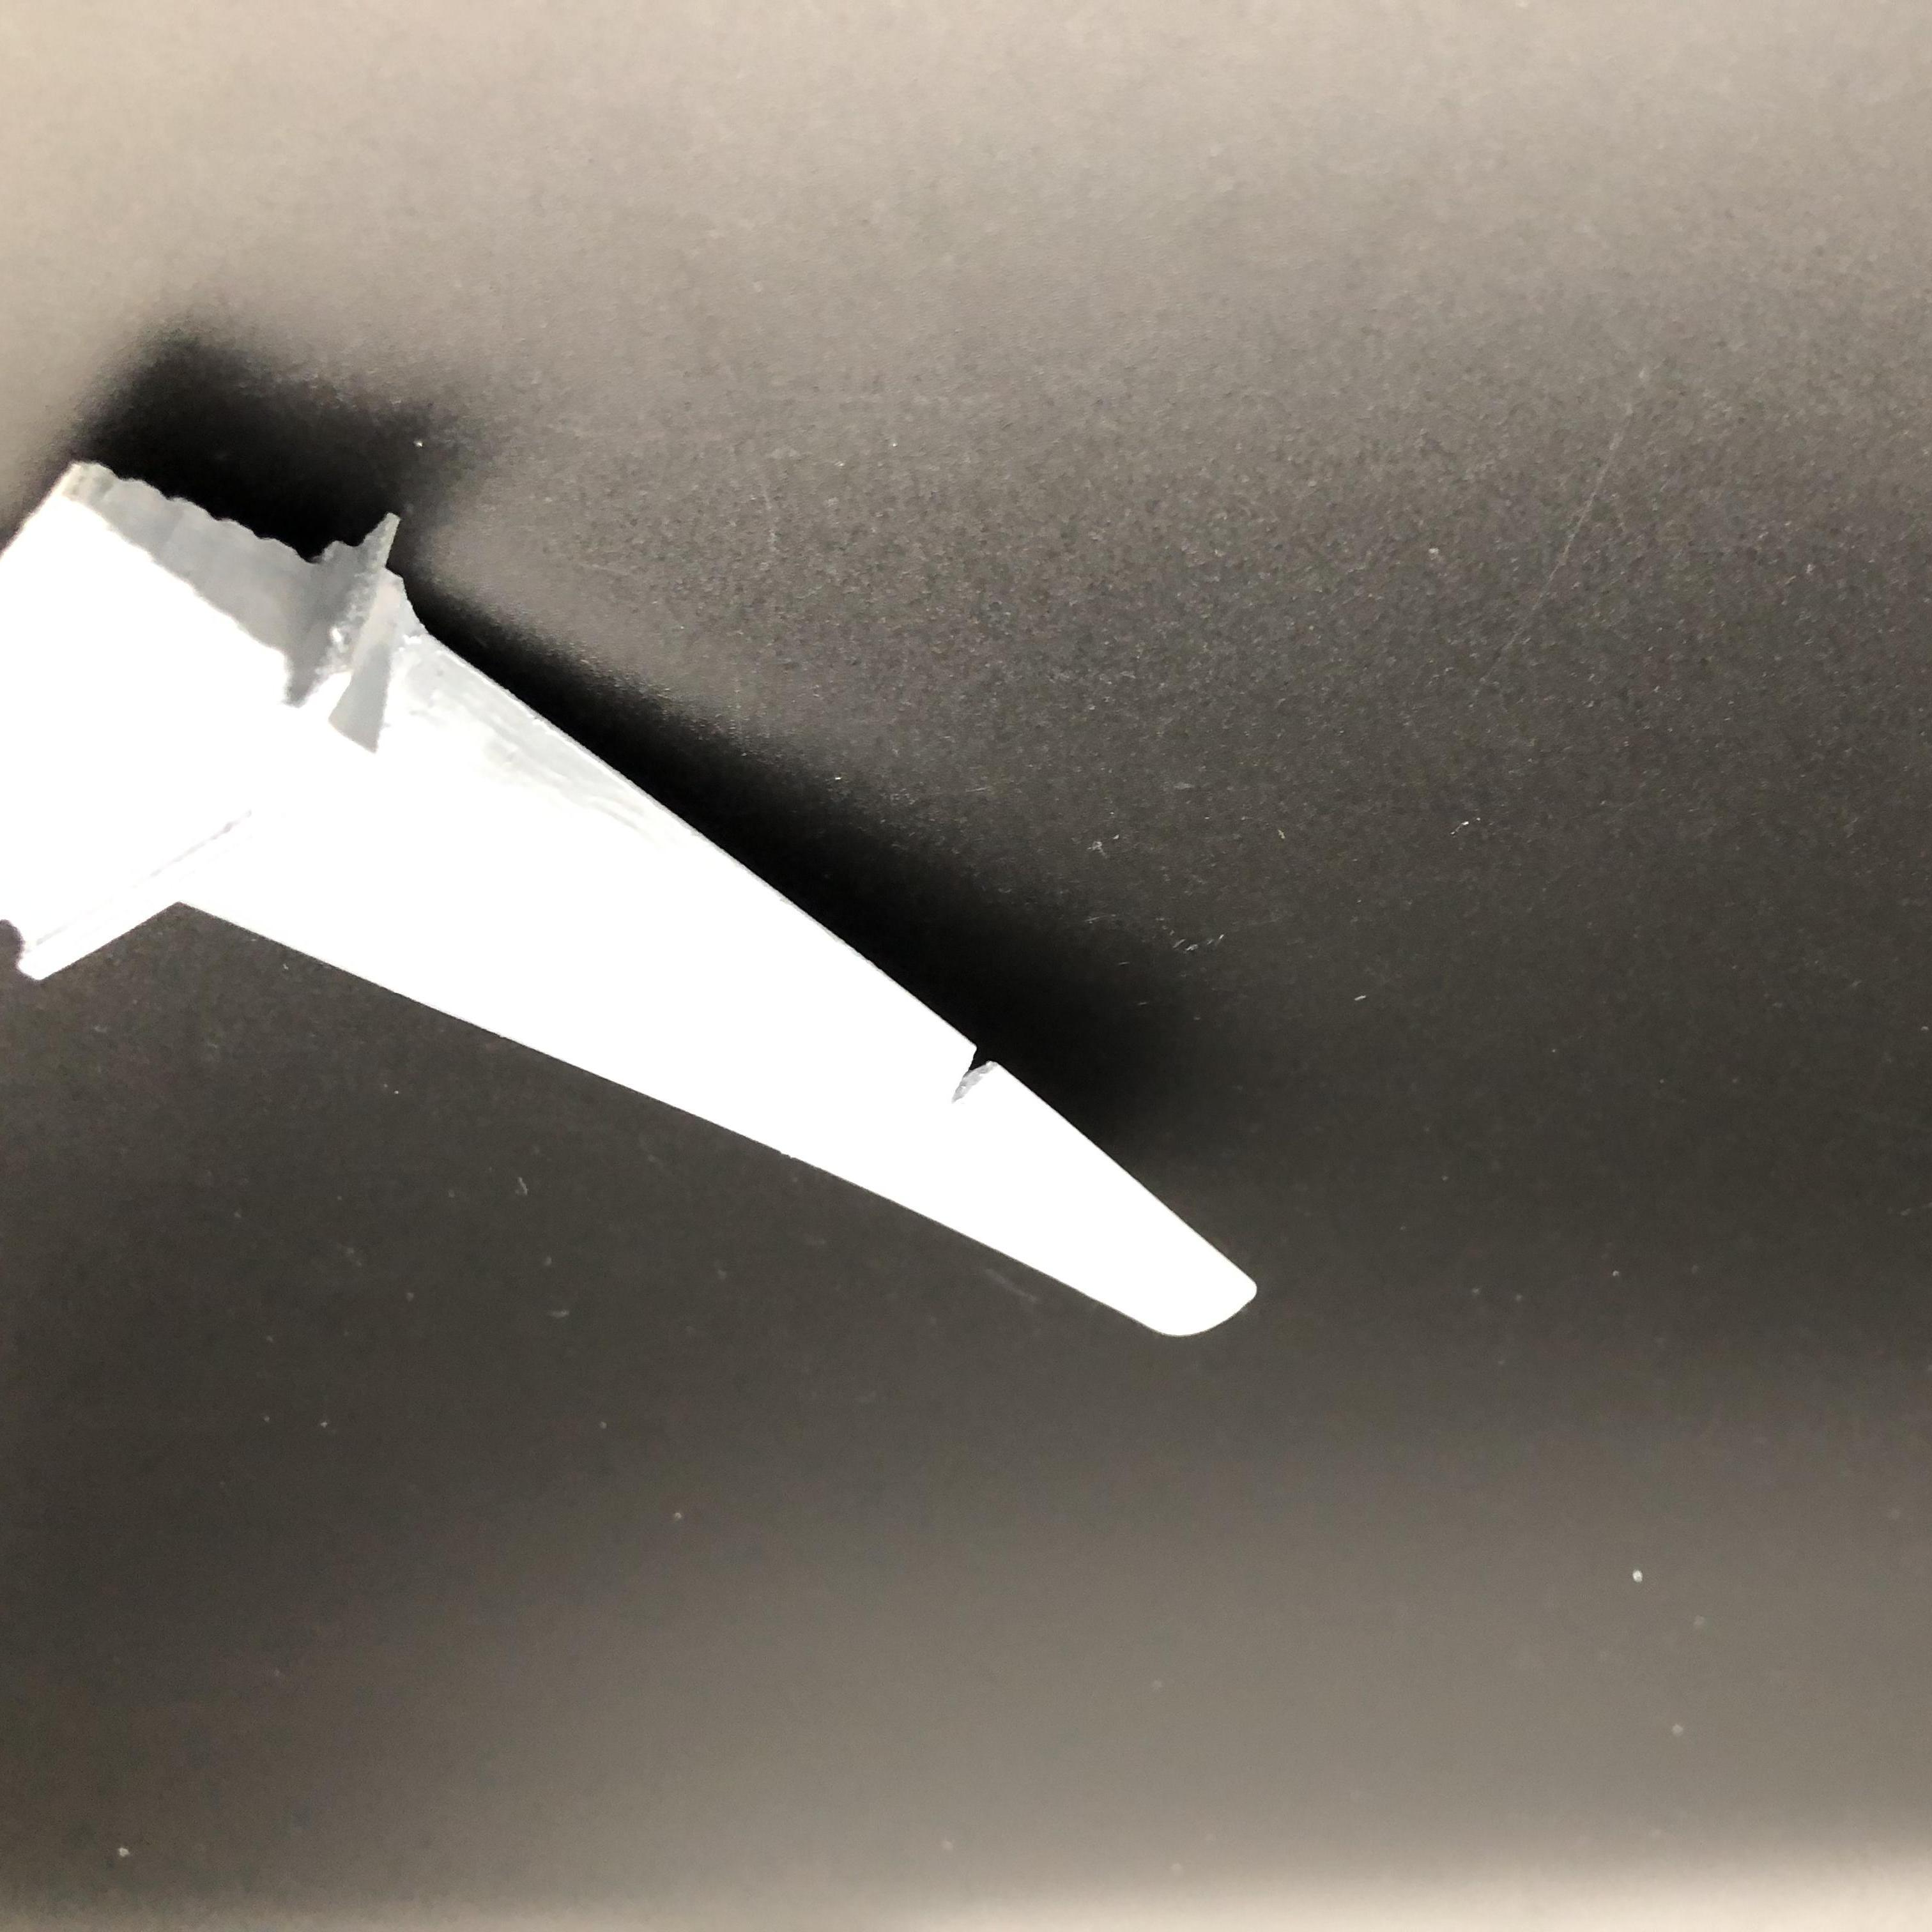groove: (950, 1033, 1008, 1111)
